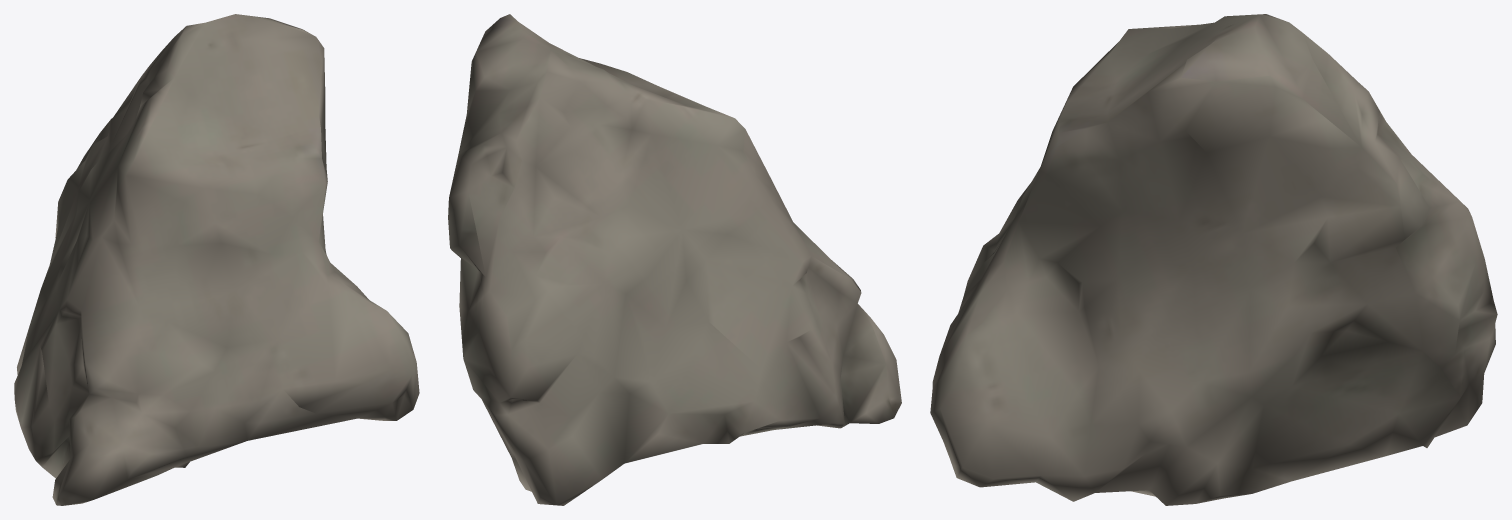
File: rock_moon_3.glb
The picture shows the model from 3 angles, left to right: view 1: azimuth 30°, elevation 25°; view 2: azimuth 150°, elevation 25°; view 3: azimuth 270°, elevation 25°; orthographic projection. The views are drawn at different scales.
Parts seen in each view (by area): view 1: moon_rock_05_LOD0; view 2: moon_rock_05_LOD0; view 3: moon_rock_05_LOD0.
Boxes of the visible parts, left/top/right/bottom form: moon_rock_05_LOD0: left=14, top=14, right=419, bottom=505; moon_rock_05_LOD0: left=448, top=14, right=901, bottom=505; moon_rock_05_LOD0: left=930, top=14, right=1497, bottom=505.
Size of the model in its own units: 0.0716 by 0.0734 by 0.0811.
Materials: 1 (1 with a texture image).
